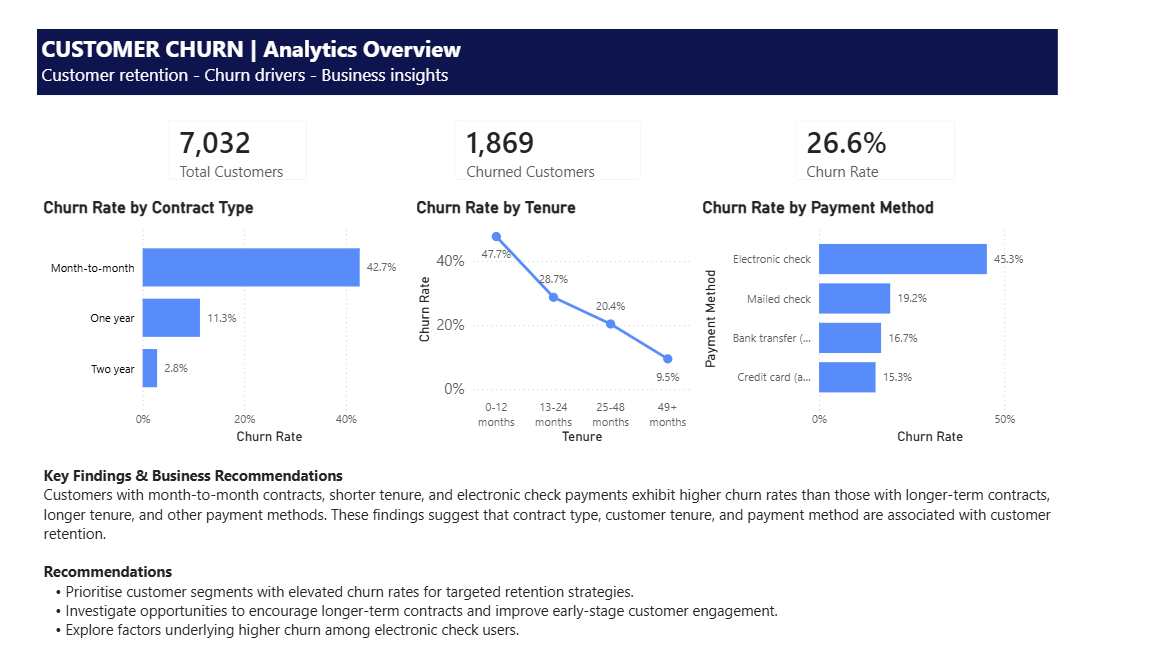

Layout of this report page (visuals, bound fields, positions):
{"tool":"powerbi","page":{"name":"Churn Overview","canvas":[1280,720],"ordinal":0},"visuals":[{"type":"clusteredBarChart","title":"Churn Rate by Contract Type","fields":{"Category":["cleaned_churn_data.Contract"],"Y":["cleaned_churn_data.Churn Rate"]},"box":[49.1,221.3,406.7,273.7],"z":0},{"type":"lineChart","title":"Churn Rate by Tenure","fields":{"Category":["cleaned_churn_data.tenure_group"],"Y":["cleaned_churn_data.Churn Rate"]},"box":[455.7,221.3,311.8,273.7],"z":1000},{"type":"clusteredBarChart","title":"Churn Rate by Payment Method","fields":{"Category":["cleaned_churn_data.PaymentMethod"],"Y":["cleaned_churn_data.Churn Rate"]},"box":[767.6,221.3,391.4,273.7],"z":2000},{"type":"cardVisual","fields":{"Data":["cleaned_churn_data.All churn"]},"box":[171.9,119.8,186.3,100.9],"z":5000},{"type":"cardVisual","fields":{"Data":["cleaned_churn_data.Churn Rate"]},"box":[856.3,119.8,209.6,100.9],"z":6000},{"type":"cardVisual","fields":{"Data":["cleaned_churn_data.Churned Customers"]},"box":[484.7,119.8,237.4,100.9],"z":7000},{"type":"textbox","box":[49.5,509.6,1112.5,210],"z":10000},{"type":"textbox","box":[46.6,37.7,1112.5,72.1],"z":10002}]}

Visuals, with their boxes in screenshot pixels (x1, y1, x2, y2), scaled from the page's 1280x720 canvas onto the 1165x651 screenshot:
"Churn Rate by Contract Type" clusteredBarChart: bbox=[45, 200, 415, 448]
"Churn Rate by Tenure" lineChart: bbox=[415, 200, 699, 448]
"Churn Rate by Payment Method" clusteredBarChart: bbox=[699, 200, 1055, 448]
cardVisual - cleaned_churn_data.All churn: bbox=[156, 108, 326, 200]
cardVisual - cleaned_churn_data.Churn Rate: bbox=[779, 108, 970, 200]
cardVisual - cleaned_churn_data.Churned Customers: bbox=[441, 108, 657, 200]
textbox: bbox=[45, 461, 1058, 650]
textbox: bbox=[42, 34, 1055, 99]
